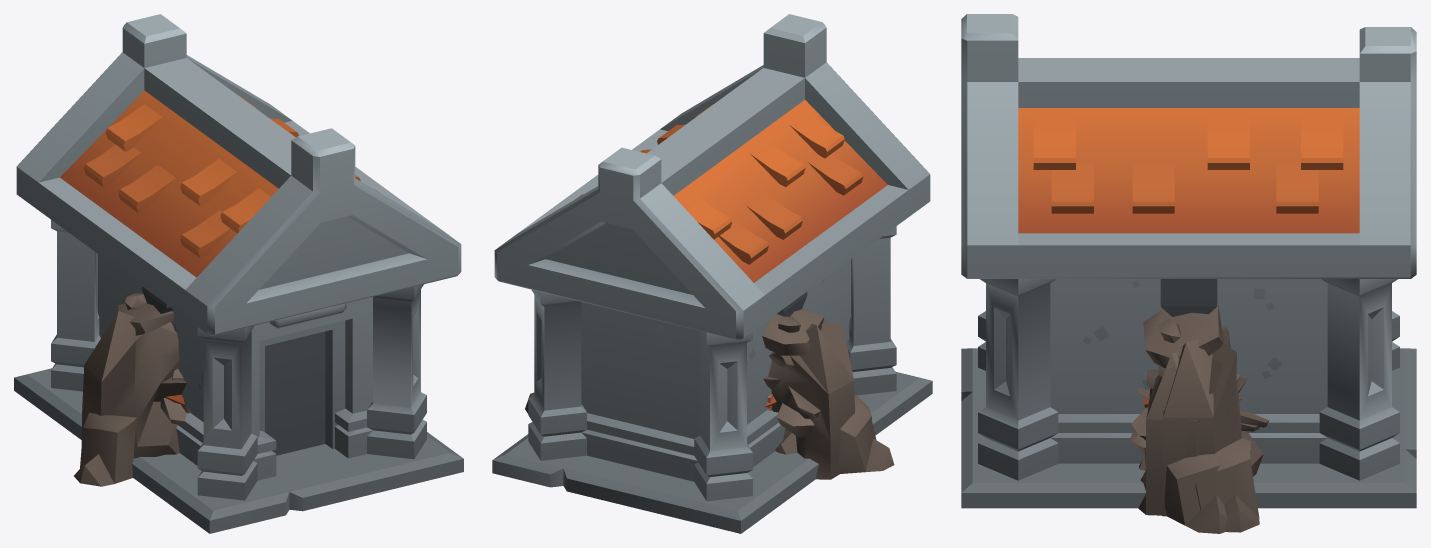
The model's file is env.glb.
3 views of the same model, side by side, from view 1: azimuth 30°, elevation 25°; view 2: azimuth 150°, elevation 25°; view 3: azimuth 270°, elevation 25° (orthographic). The views are drawn at different scales.
Visible parts, largest first — view 1: crypt, rubble_large; view 2: crypt, rubble_large; view 3: crypt, rubble_half, rubble_large, wall_half, wall.
Boxes of the visible parts, box(x1,y1,x2,y2) form: crypt: box(14, 14, 463, 533); rubble_large: box(74, 293, 190, 486); crypt: box(492, 14, 932, 533); rubble_large: box(762, 308, 894, 479); crypt: box(961, 14, 1416, 508); rubble_half: box(1143, 305, 1268, 532); rubble_large: box(1130, 352, 1259, 533); wall_half: box(1160, 279, 1216, 316); wall: box(1165, 279, 1217, 316).
Size of the model in its own units: 8.13 by 8.79 by 8.
Materials: 3 (3 with a texture image).
